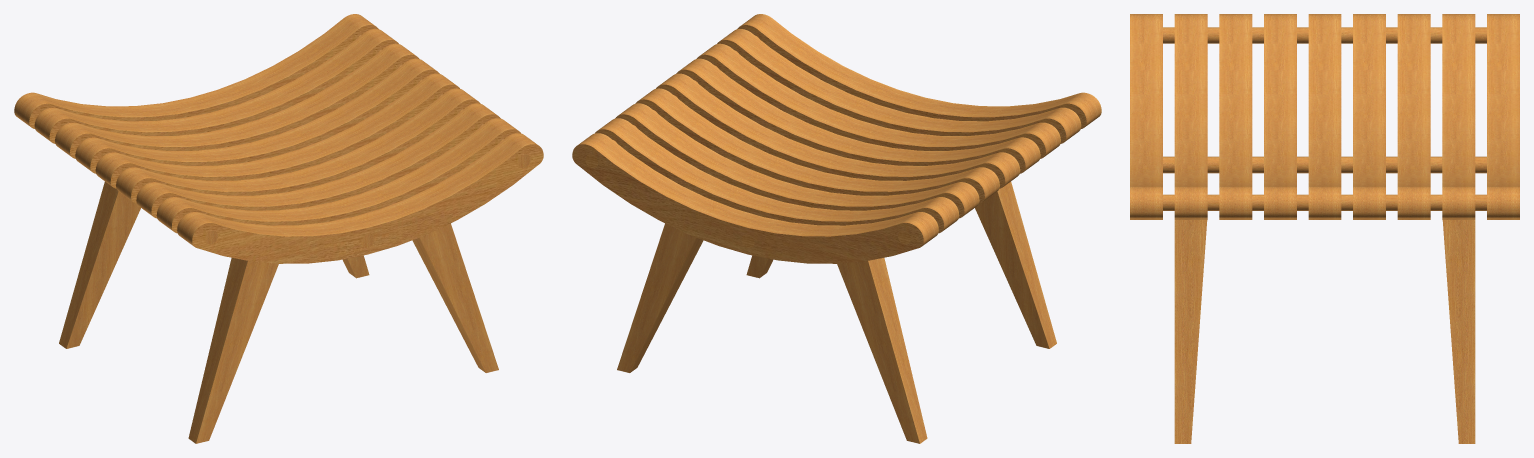
3 views of the same model, side by side, from view 1: azimuth 30°, elevation 25°; view 2: azimuth 150°, elevation 25°; view 3: azimuth 270°, elevation 25° (orthographic). The views are drawn at different scales.
Visible parts, largest first — view 1: seat_slat (×18), leg (×3); view 2: seat_slat (×18), leg (×3); view 3: seat_slat (×9), leg (×2), dowel (×3).
Boxes of the visible parts, <box> form: seat_slat (×18): <box>14,14,543,263</box>; leg (×3): <box>59,181,498,443</box>; seat_slat (×18): <box>572,14,1101,263</box>; leg (×3): <box>617,181,1056,443</box>; seat_slat (×9): <box>1130,14,1519,219</box>; leg (×2): <box>1174,220,1475,443</box>; dowel (×3): <box>1163,27,1486,210</box>.
Bounding box in the file's own units: 20.25 × 17.75 × 13.1.
Materials: 3 (2 with a texture image).
